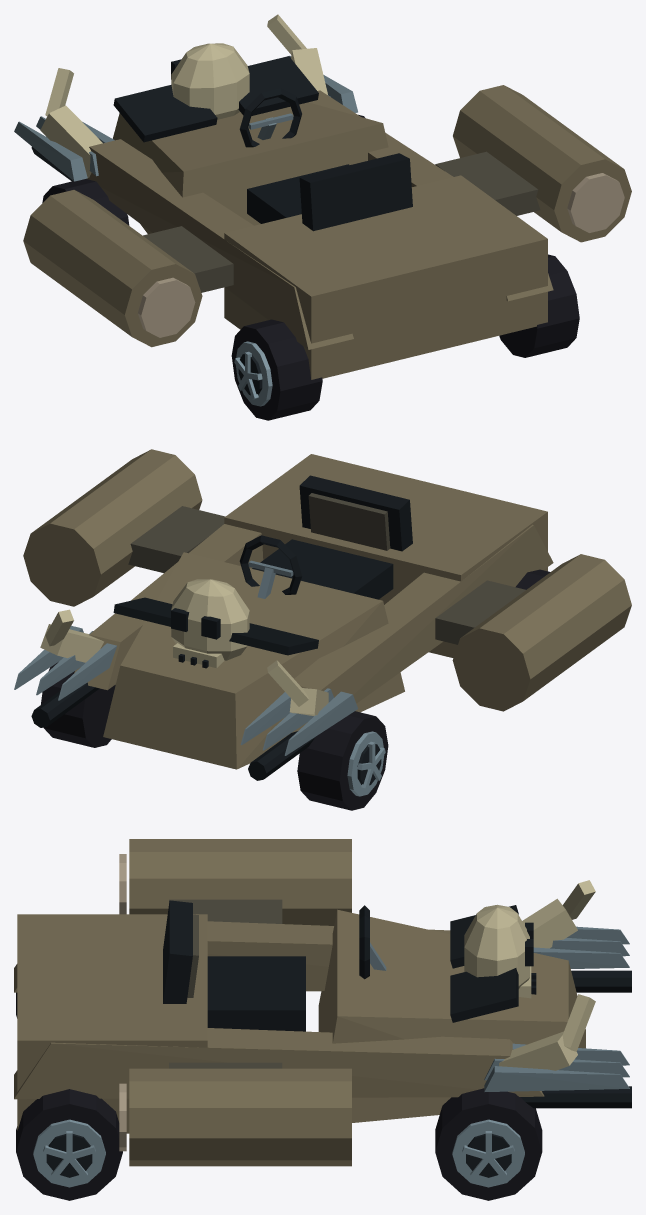
Rendered from kart.glb.
The picture shows the model from 3 angles, top to bottom: view 1: azimuth 30°, elevation 25°; view 2: azimuth 150°, elevation 25°; view 3: azimuth 270°, elevation 25°; orthographic projection. The views are drawn at different scales.
Parts seen in each view (by area): view 1: identity-gunship-gunship-armored-cargo-fuselage, identity-gunship-driver-cockpit, wheel-rear-left, identity-gunship-motif-skull, identity-gunship-motif-tusks, wheel-rear-right, identity-gunship-motif-claws, wheel-front-left; view 2: identity-gunship-gunship-armored-cargo-fuselage, identity-gunship-driver-cockpit, wheel-front-left, identity-gunship-motif-claws, identity-gunship-motif-skull, identity-gunship-motif-tusks, wheel-front-right; view 3: identity-gunship-gunship-armored-cargo-fuselage, identity-gunship-driver-cockpit, wheel-front-right, wheel-rear-right, identity-gunship-motif-claws, identity-gunship-motif-tusks, identity-gunship-motif-skull.
Boxes of the visible parts, x1,y1,x2,y2 form: identity-gunship-gunship-armored-cargo-fuselage: [23, 56, 631, 379]; identity-gunship-driver-cockpit: [239, 88, 412, 231]; wheel-rear-left: [231, 319, 322, 420]; identity-gunship-motif-skull: [171, 43, 249, 119]; identity-gunship-motif-tusks: [40, 14, 327, 177]; wheel-rear-right: [499, 254, 579, 357]; identity-gunship-motif-claws: [14, 55, 357, 181]; wheel-front-left: [42, 179, 129, 225]; identity-gunship-gunship-armored-cargo-fuselage: [23, 449, 631, 780]; identity-gunship-driver-cockpit: [239, 475, 412, 599]; wheel-front-left: [297, 711, 388, 810]; identity-gunship-motif-claws: [14, 626, 358, 755]; identity-gunship-motif-skull: [171, 579, 249, 668]; identity-gunship-motif-tusks: [40, 609, 328, 715]; wheel-front-right: [41, 662, 115, 747]; identity-gunship-gunship-armored-cargo-fuselage: [14, 839, 631, 1166]; identity-gunship-driver-cockpit: [163, 900, 386, 1031]; wheel-front-right: [435, 1088, 542, 1200]; wheel-rear-right: [16, 1089, 122, 1200]; identity-gunship-motif-claws: [484, 926, 629, 1091]; identity-gunship-motif-tusks: [499, 880, 595, 1070]; identity-gunship-motif-skull: [464, 904, 536, 998].
Bounding box in the file's own units: 3 × 1.1 × 2.89.
